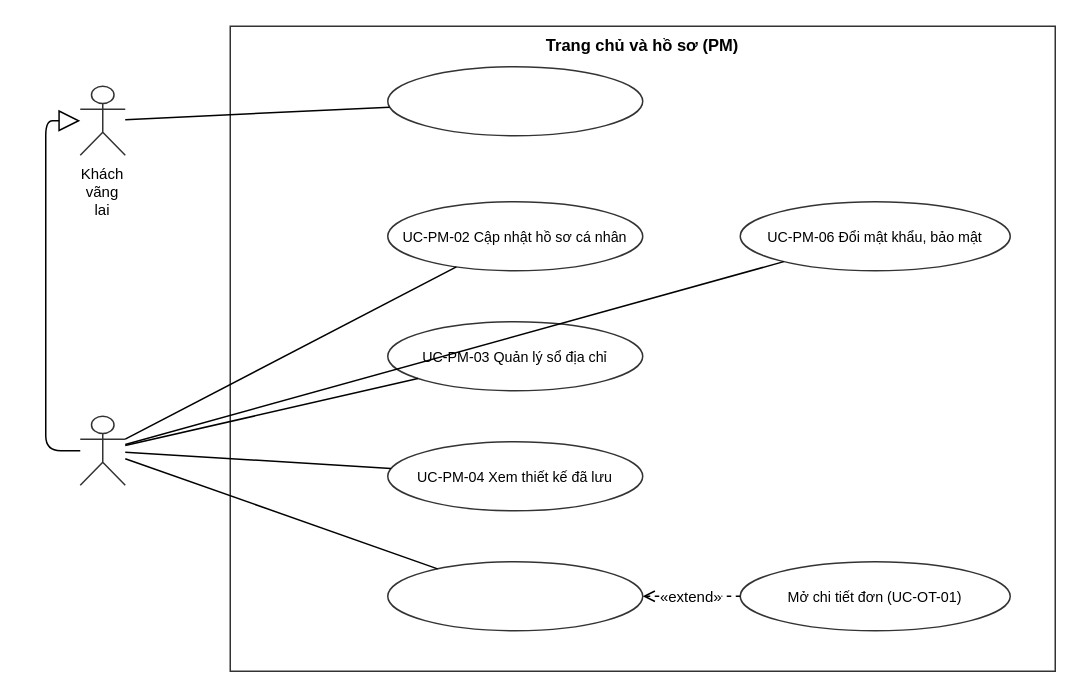
Some shapes in this 1082 by 698 pixel diagram are drawn without their labels. Here are the shapes that lost their labels. From the top down, the centre of each, then its label:
At (514,100): "UC-PM-01 Xem trang chủ".
At (102,450): "Khách hàng".
At (514,595): "UC-PM-05 Xem lịch sử đơn hàng".
